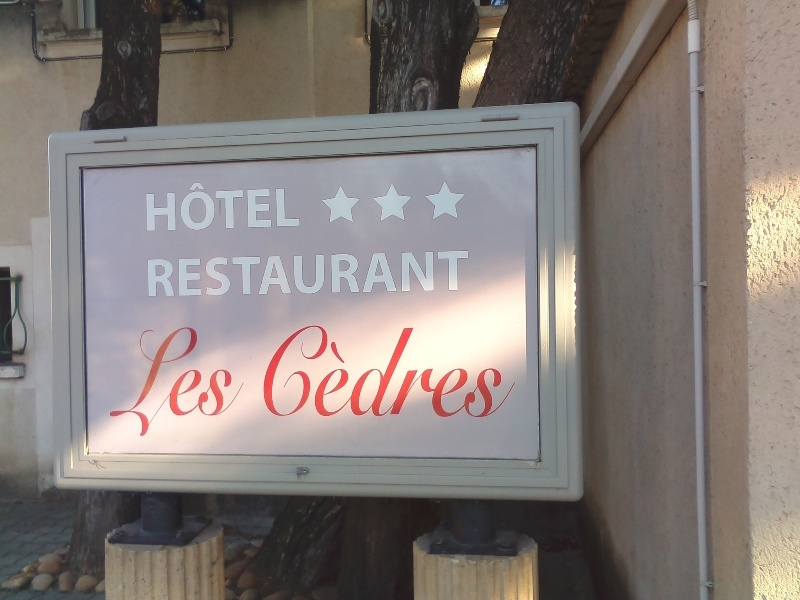text: (129, 326, 144, 442), (145, 326, 160, 442), (161, 326, 176, 442), (177, 326, 192, 442), (193, 326, 208, 442), (209, 326, 224, 442), (225, 326, 240, 442), (241, 326, 256, 442), (273, 319, 288, 423), (289, 319, 304, 423), (305, 319, 320, 423), (321, 319, 336, 423), (337, 319, 352, 423), (353, 319, 368, 423), (369, 319, 384, 423), (385, 319, 400, 423), (401, 319, 416, 423), (417, 319, 432, 423), (433, 319, 448, 423), (449, 319, 464, 423), (465, 319, 480, 423), (481, 319, 496, 423), (497, 319, 512, 423), (513, 319, 522, 423), (257, 326, 265, 442), (145, 179, 160, 234), (161, 179, 176, 234), (177, 179, 192, 234), (193, 179, 208, 234), (209, 179, 224, 234), (225, 179, 240, 234), (241, 179, 256, 234), (257, 179, 272, 234), (273, 179, 288, 234), (145, 249, 160, 301), (161, 249, 176, 301), (177, 249, 192, 301), (193, 249, 208, 301), (209, 249, 224, 301), (225, 249, 240, 301), (241, 249, 256, 301), (257, 249, 272, 301), (273, 249, 288, 301), (289, 249, 304, 301), (305, 249, 320, 301), (321, 249, 336, 301), (337, 249, 352, 301), (353, 249, 368, 301), (369, 249, 384, 301), (385, 249, 400, 301), (401, 249, 416, 301), (417, 249, 432, 301), (433, 249, 448, 301), (449, 249, 464, 301), (289, 179, 303, 234), (465, 249, 474, 301), (142, 179, 144, 234)
